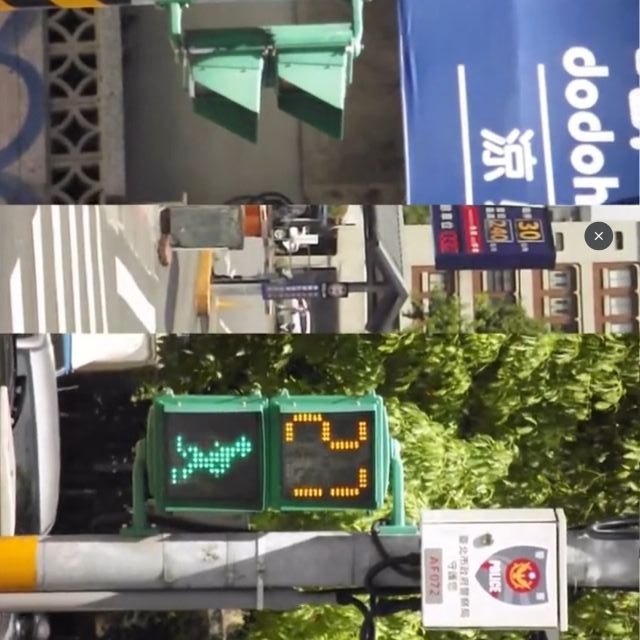green_light: (152, 396, 387, 511)
